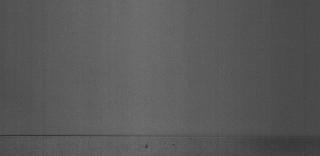welding line: (2, 130, 320, 142)
